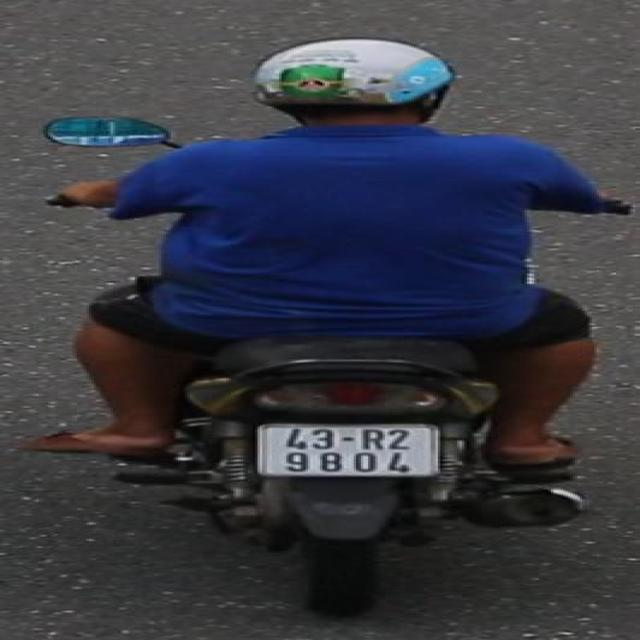LP: (248, 415, 450, 483)
helmet: (243, 32, 462, 140)
